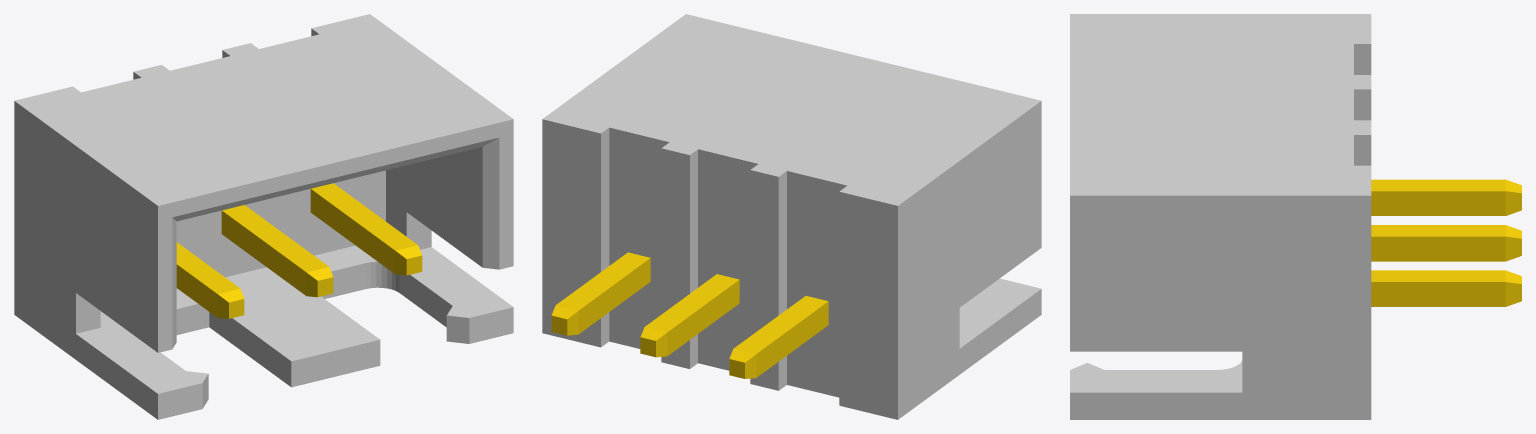
File: DS1069-3 CWF-3.obj
3 views of the same model, side by side, from view 1: azimuth 30°, elevation 25°; view 2: azimuth 150°, elevation 25°; view 3: azimuth 270°, elevation 25° (orthographic). The views are drawn at different scales.
Visible parts, largest first — view 1: DS1069-3_CWF-3; view 2: DS1069-3_CWF-3; view 3: DS1069-3_CWF-3.
Boxes of the visible parts, bbox=[...] form: DS1069-3_CWF-3: bbox=[14, 14, 513, 419]; DS1069-3_CWF-3: bbox=[542, 14, 1041, 419]; DS1069-3_CWF-3: bbox=[1070, 14, 1521, 419].
Bounding box in the file's own units: 0.0162 × 0.00934 × 0.0171.
